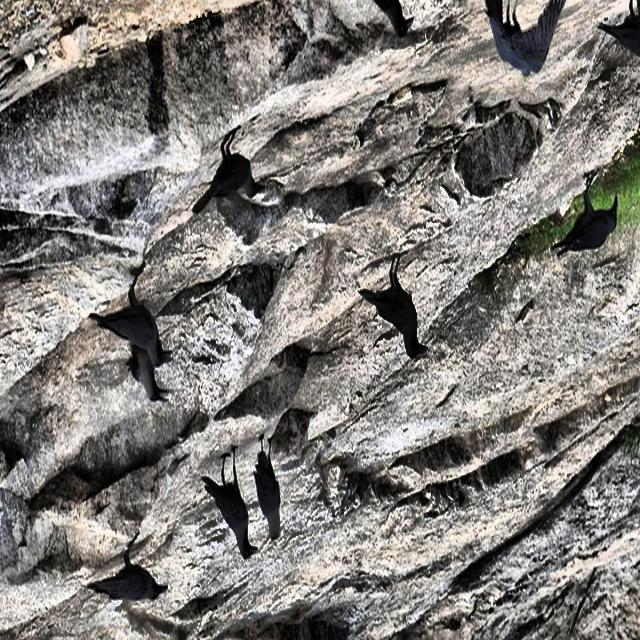crow: (94, 284, 188, 431), (354, 251, 432, 396), (209, 124, 289, 250), (77, 519, 175, 620), (194, 437, 257, 583), (552, 166, 632, 272)
